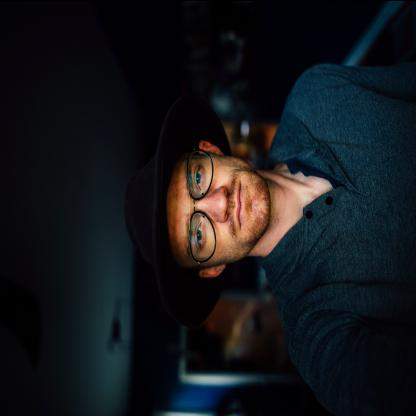Eye: (194, 218, 208, 252), (191, 158, 205, 190)
Mouth: (236, 178, 247, 230)
Nose: (200, 182, 232, 223)
